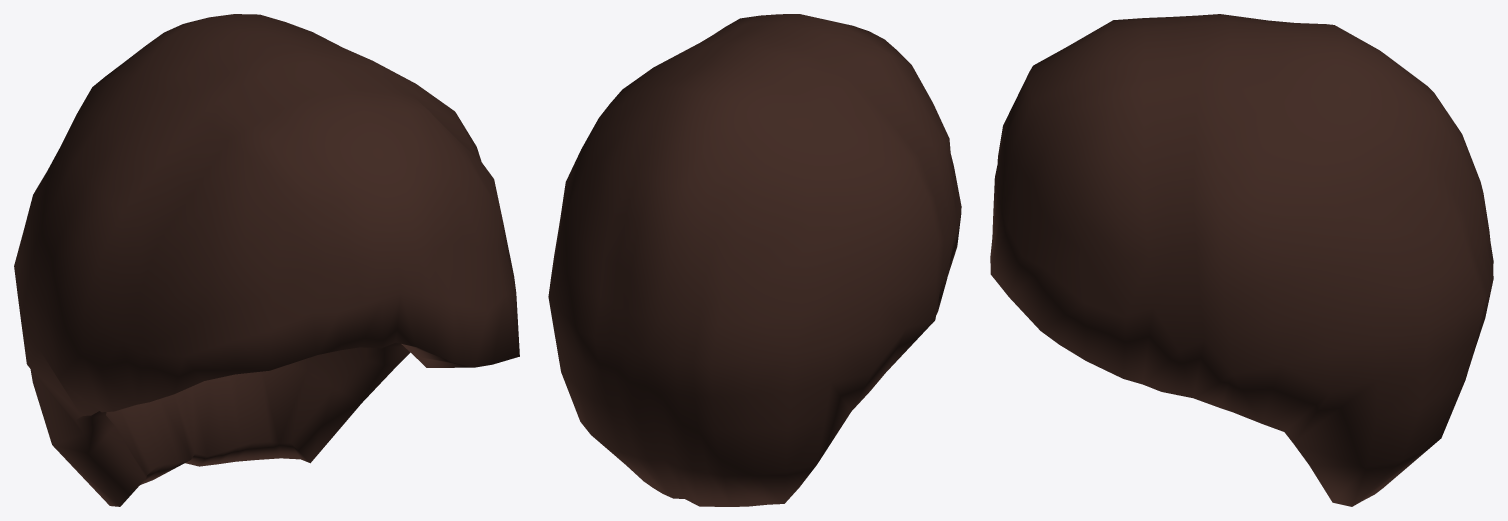
Rendered from Hair02.fbx.
3 renders of one model, left to right at view 1: azimuth 30°, elevation 25°; view 2: azimuth 150°, elevation 25°; view 3: azimuth 270°, elevation 25°, orthographic. The views are drawn at different scales.
Visible parts, largest first — view 1: Hair02; view 2: Hair02; view 3: Hair02.
Boxes of the visible parts, box(x1,y1,x2,y2) form: Hair02: box(14, 14, 519, 506); Hair02: box(548, 14, 961, 506); Hair02: box(990, 14, 1493, 506).
Bounding box in the file's own units: 30.61 × 33.24 × 34.65.
